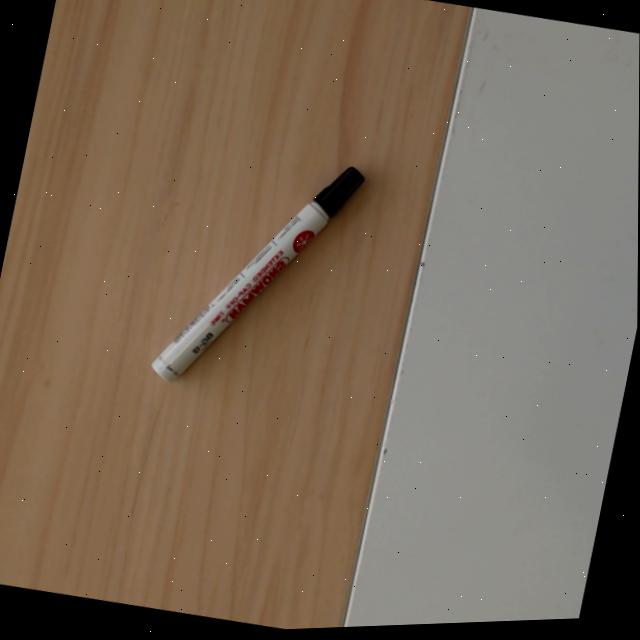Marker-Pen: (149, 159, 369, 386)
